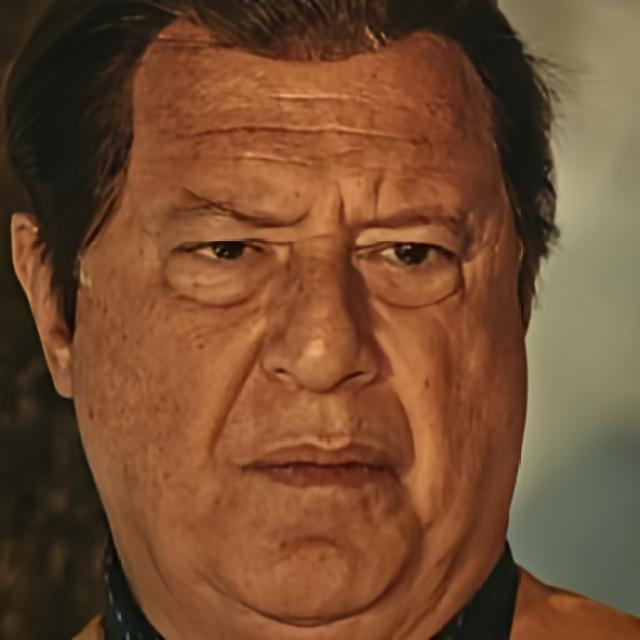anger: (84, 30, 512, 632)
